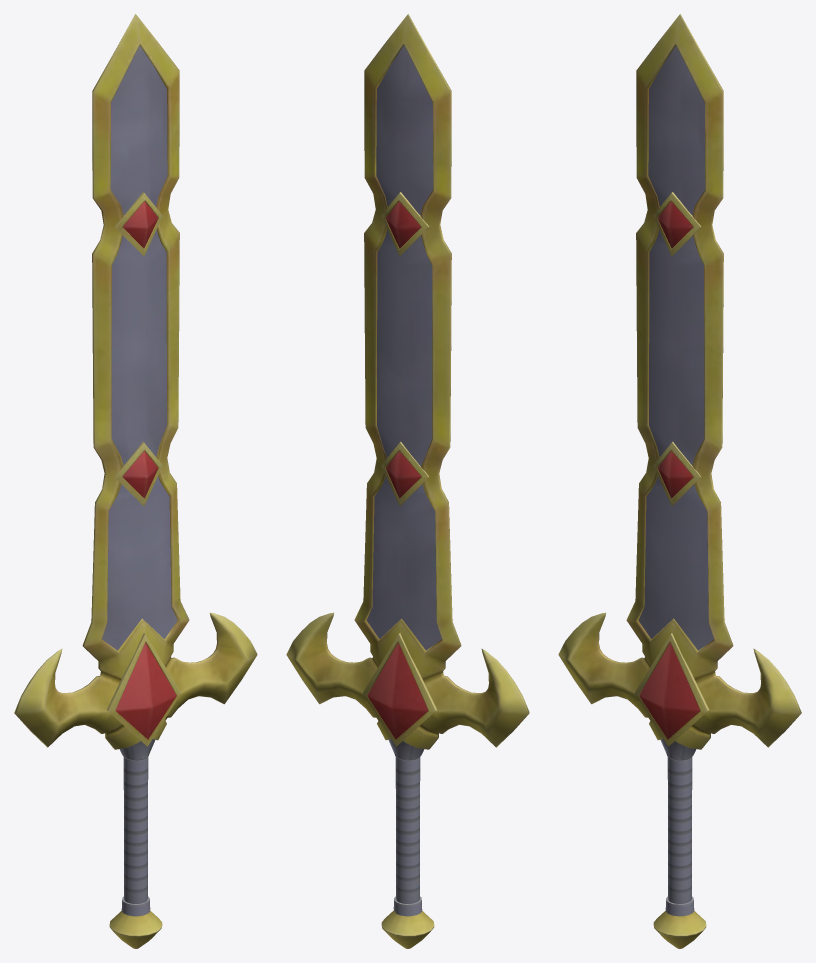
The model's file is yakushimamonster002_df294c.glb.
3 renders of one model, left to right at view 1: azimuth 30°, elevation 25°; view 2: azimuth 150°, elevation 25°; view 3: azimuth 330°, elevation 25°, orthographic.
Size of the model in its own units: 0.2923 by 1.07 by 0.0681.
1 material, 1 textured.
